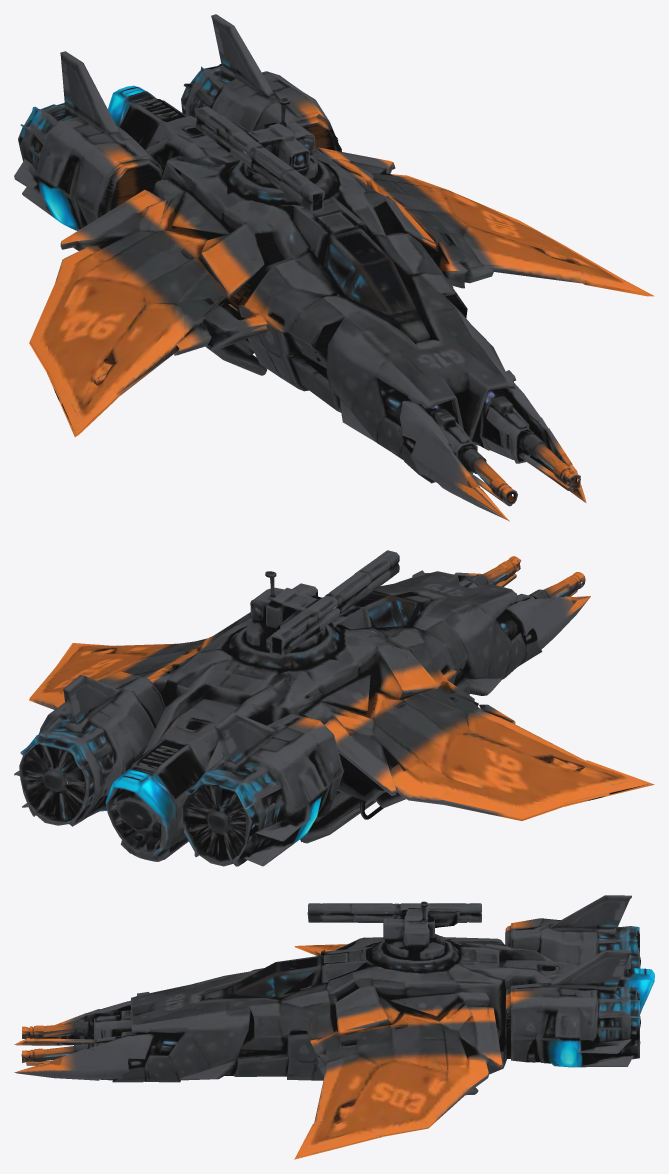
File: saturn-schiff3.glb
The picture shows the model from 3 angles, top to bottom: view 1: azimuth 30°, elevation 25°; view 2: azimuth 150°, elevation 25°; view 3: azimuth 270°, elevation 25°; orthographic projection. The views are drawn at different scales.
Parts seen in each view (by area): view 1: Hull_LOD0; view 2: Hull_LOD0; view 3: Hull_LOD0.
Part boxes in pixels (<box>): Hull_LOD0: <box>14,14,654,521</box>; Hull_LOD0: <box>14,550,654,866</box>; Hull_LOD0: <box>14,895,654,1159</box>.
Size of the model in its own units: 42.77 by 16.49 by 54.36.
Materials: 1 (1 with a texture image).
